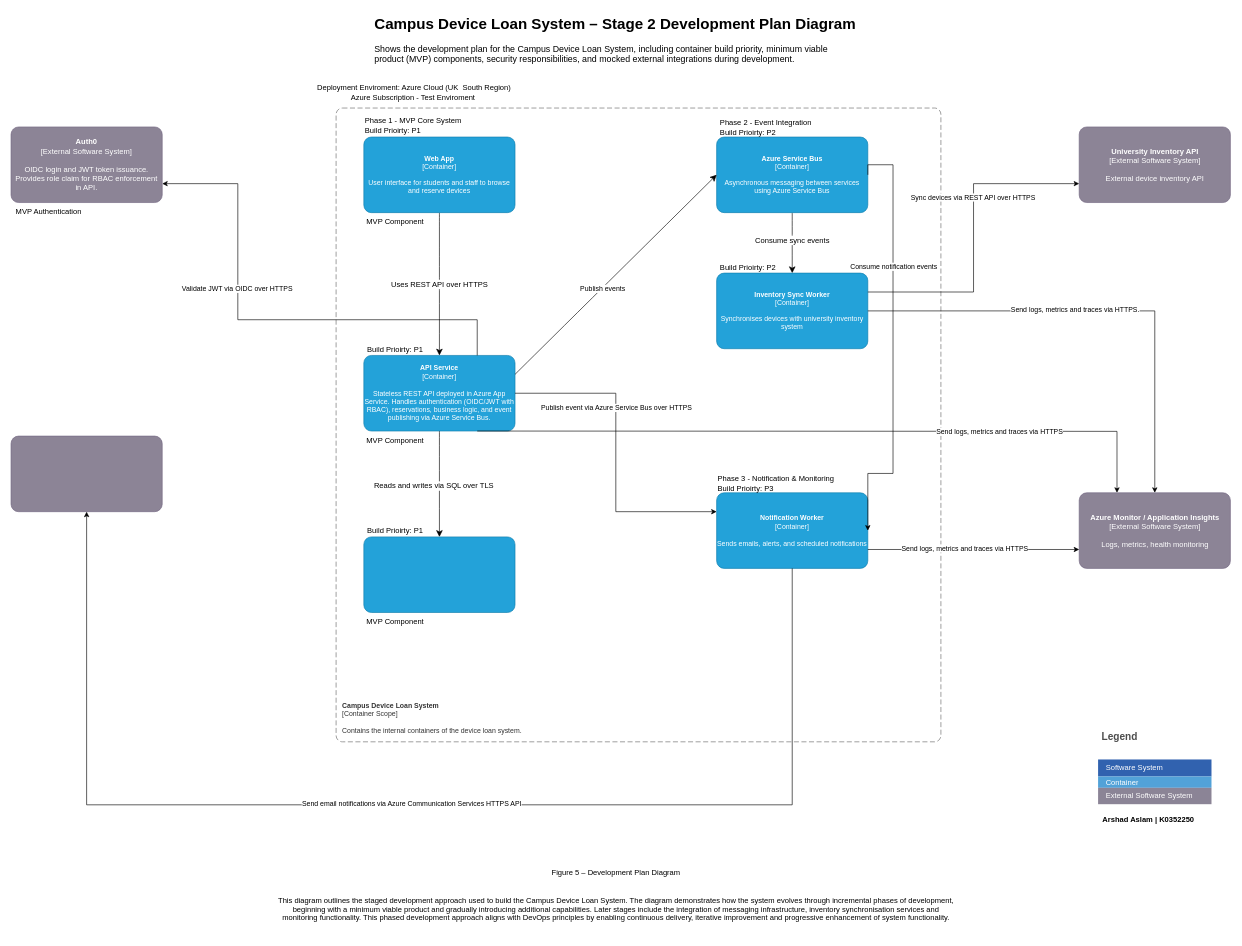
Image size: 1242x946. Some labels were removed from this diagram. The shapes that lost their labels are listed below. From the top down, each one's centre as x and y in pixels, then its label:
At (x=86, y=473): "Azure Communication Services [External Software System] Email / notification API".
At (x=439, y=574): "Loan Database [Container] Azure SQL Database".
